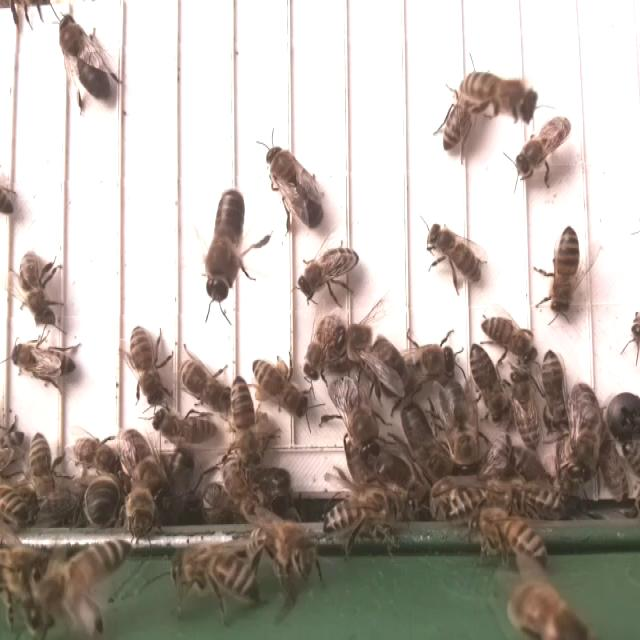Drone: (330, 319, 409, 397), (263, 139, 328, 233), (55, 8, 114, 106), (326, 367, 382, 463), (435, 374, 485, 479), (202, 187, 246, 304), (384, 340, 457, 388)
Worker: (459, 68, 538, 125), (511, 113, 573, 183), (291, 243, 363, 300), (250, 355, 312, 419), (425, 222, 485, 286), (6, 338, 81, 388), (467, 340, 509, 427), (16, 245, 58, 328), (176, 354, 233, 415), (548, 220, 581, 322), (151, 401, 221, 448), (128, 320, 165, 407), (509, 364, 543, 456), (478, 312, 539, 363), (27, 426, 60, 516), (540, 346, 573, 433), (229, 372, 259, 461), (438, 85, 476, 155)
